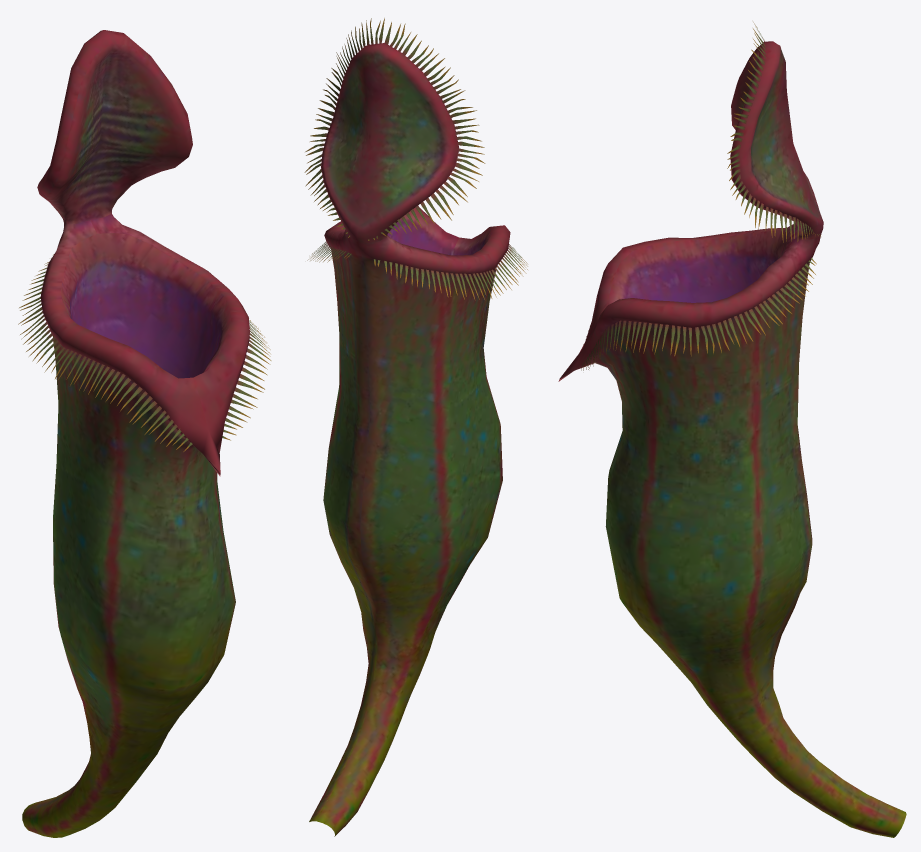
Rendered from Plant - Alien Nephente1-B7qFUYe2.glb.
3 renders of one model, left to right at view 1: azimuth 30°, elevation 25°; view 2: azimuth 150°, elevation 25°; view 3: azimuth 270°, elevation 25°, orthographic. The views are drawn at different scales.
Visible parts, largest first — view 1: Nephente1(Clone), Nephente1_edge(Clone); view 2: Nephente1(Clone), Nephente1_edge(Clone); view 3: Nephente1(Clone), Nephente1_edge(Clone).
Part boxes in pixels (x1,y1,x2,y2): Nephente1(Clone): (22,30,249,837); Nephente1_edge(Clone): (18,254,271,451); Nephente1(Clone): (309,43,510,836); Nephente1_edge(Clone): (304,18,527,300); Nephente1(Clone): (558,41,906,837); Nephente1_edge(Clone): (581,22,820,370).
Size of the model in its own units: 0.4872 by 1.93 by 0.7454.
Materials: 2 (2 with a texture image).
